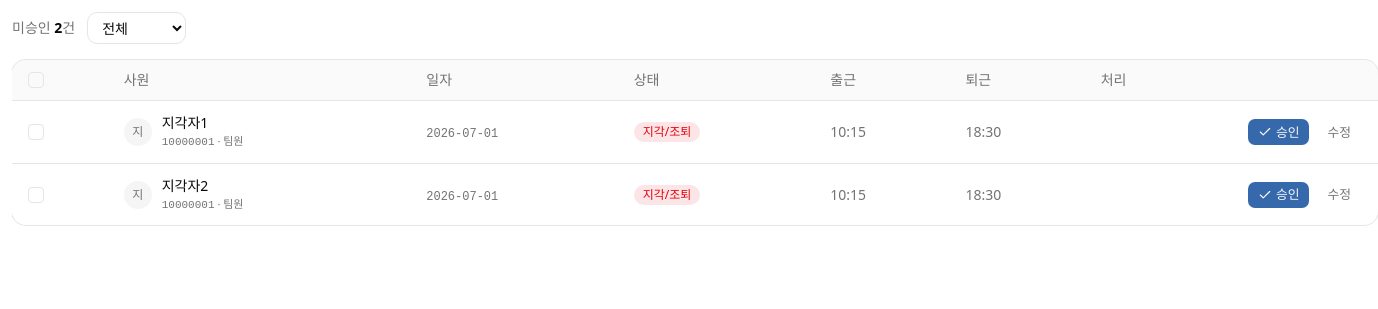
DeptAttendancePendingTable (F306) › 행 체크박스/전체선택(T3.4-b 확장) › 행 체크박스를 선택하면 선택 액션 바가 나타나고 "선택 승인" 버튼이 활성화된다
Check: the button "선택 승인" is not shown
Click the checkbox named "지각자1 근태 선택" at (36, 132), box [28,124,44,140]
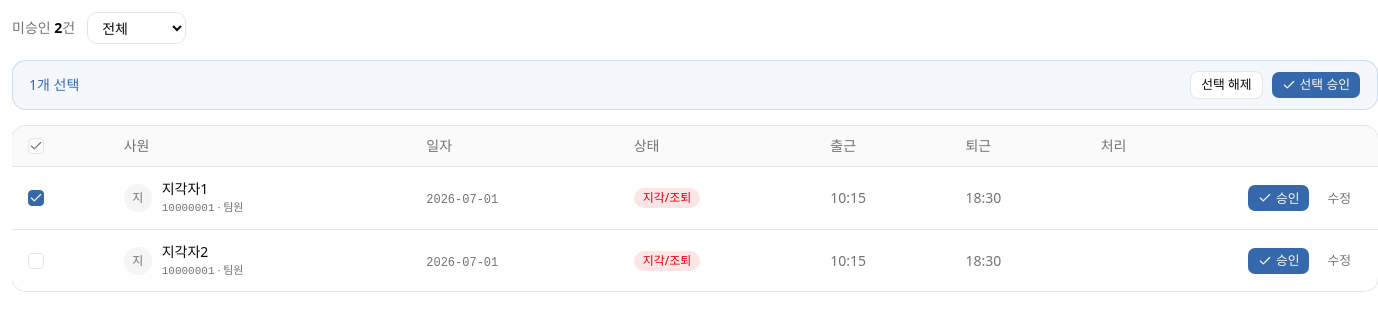
Check: the text "1개 선택" is shown, box [29,75,79,95]
Check: the button "선택 승인" is enabled, box [1271,71,1361,99]
